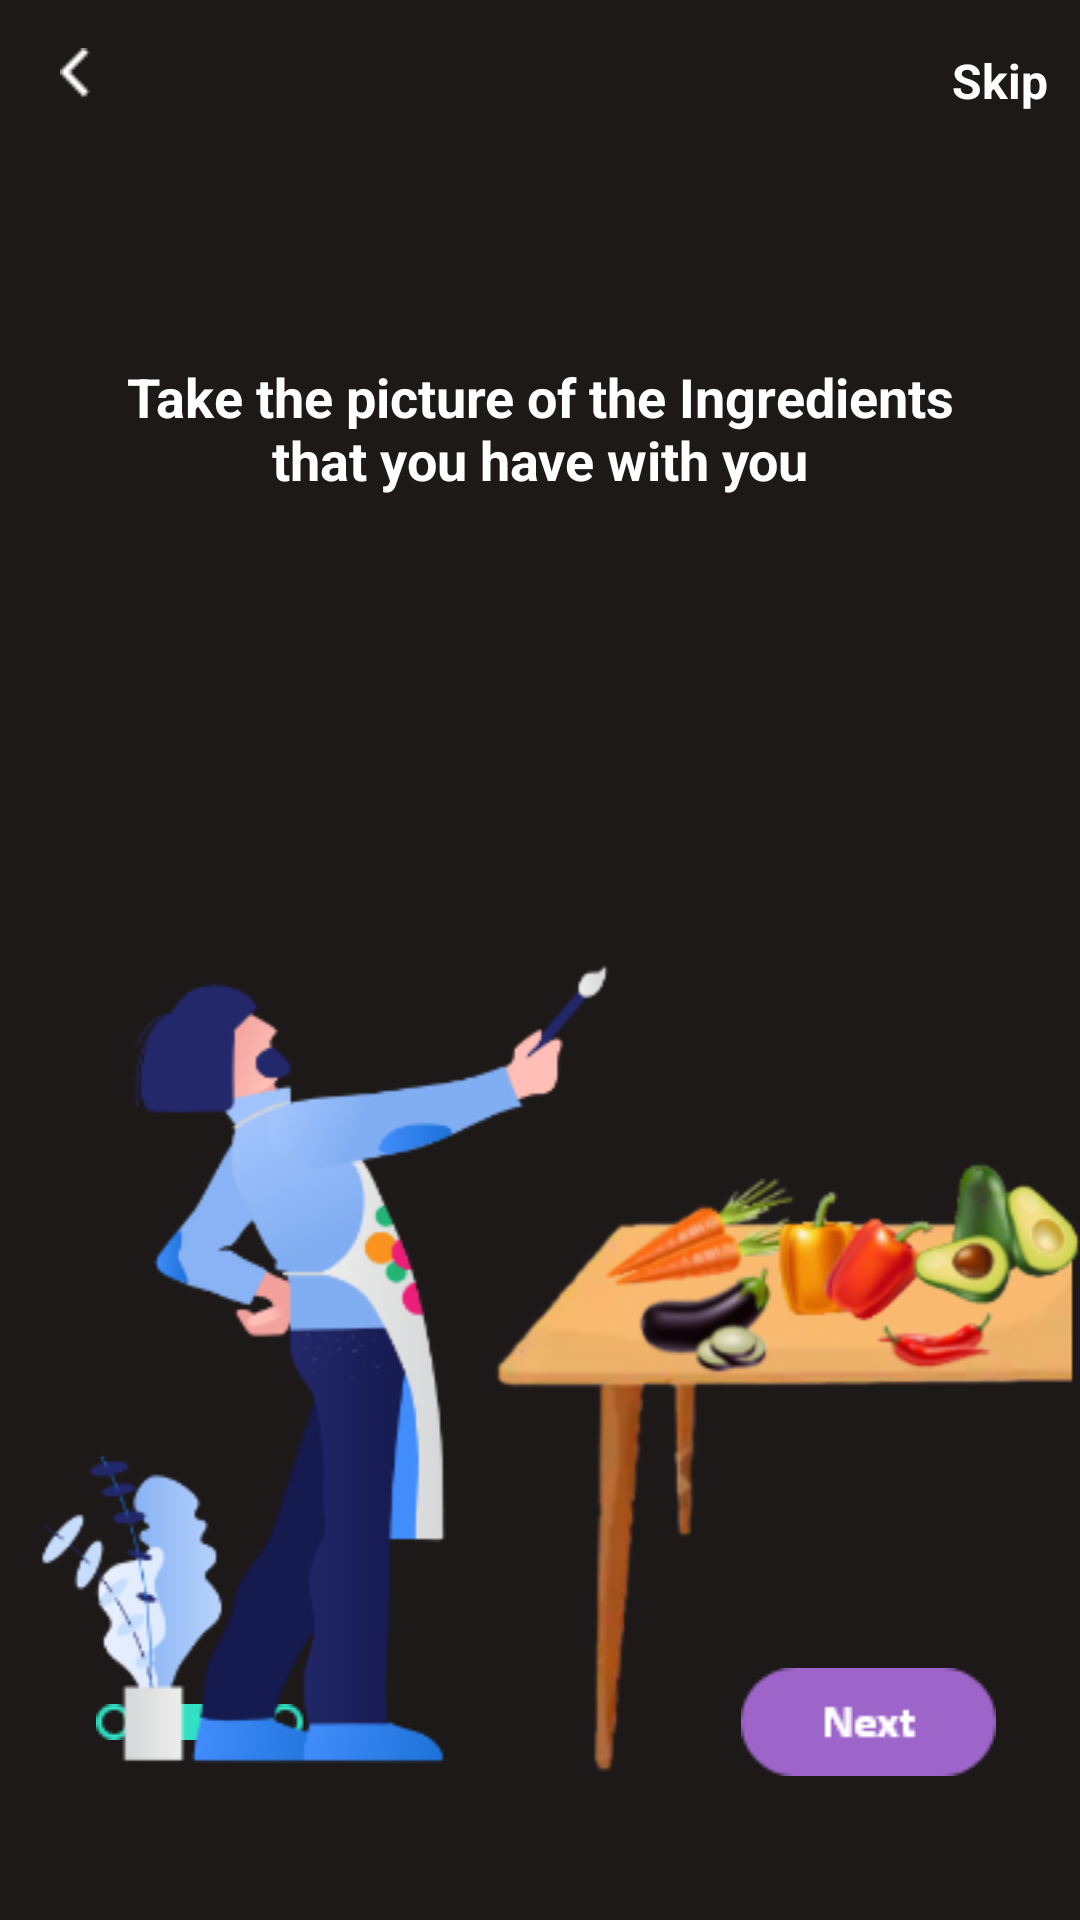

Screen size 1080*1920. Icon name, then its center in pixels as (x=x, y=y):
back arrow: (x=75, y=72)
